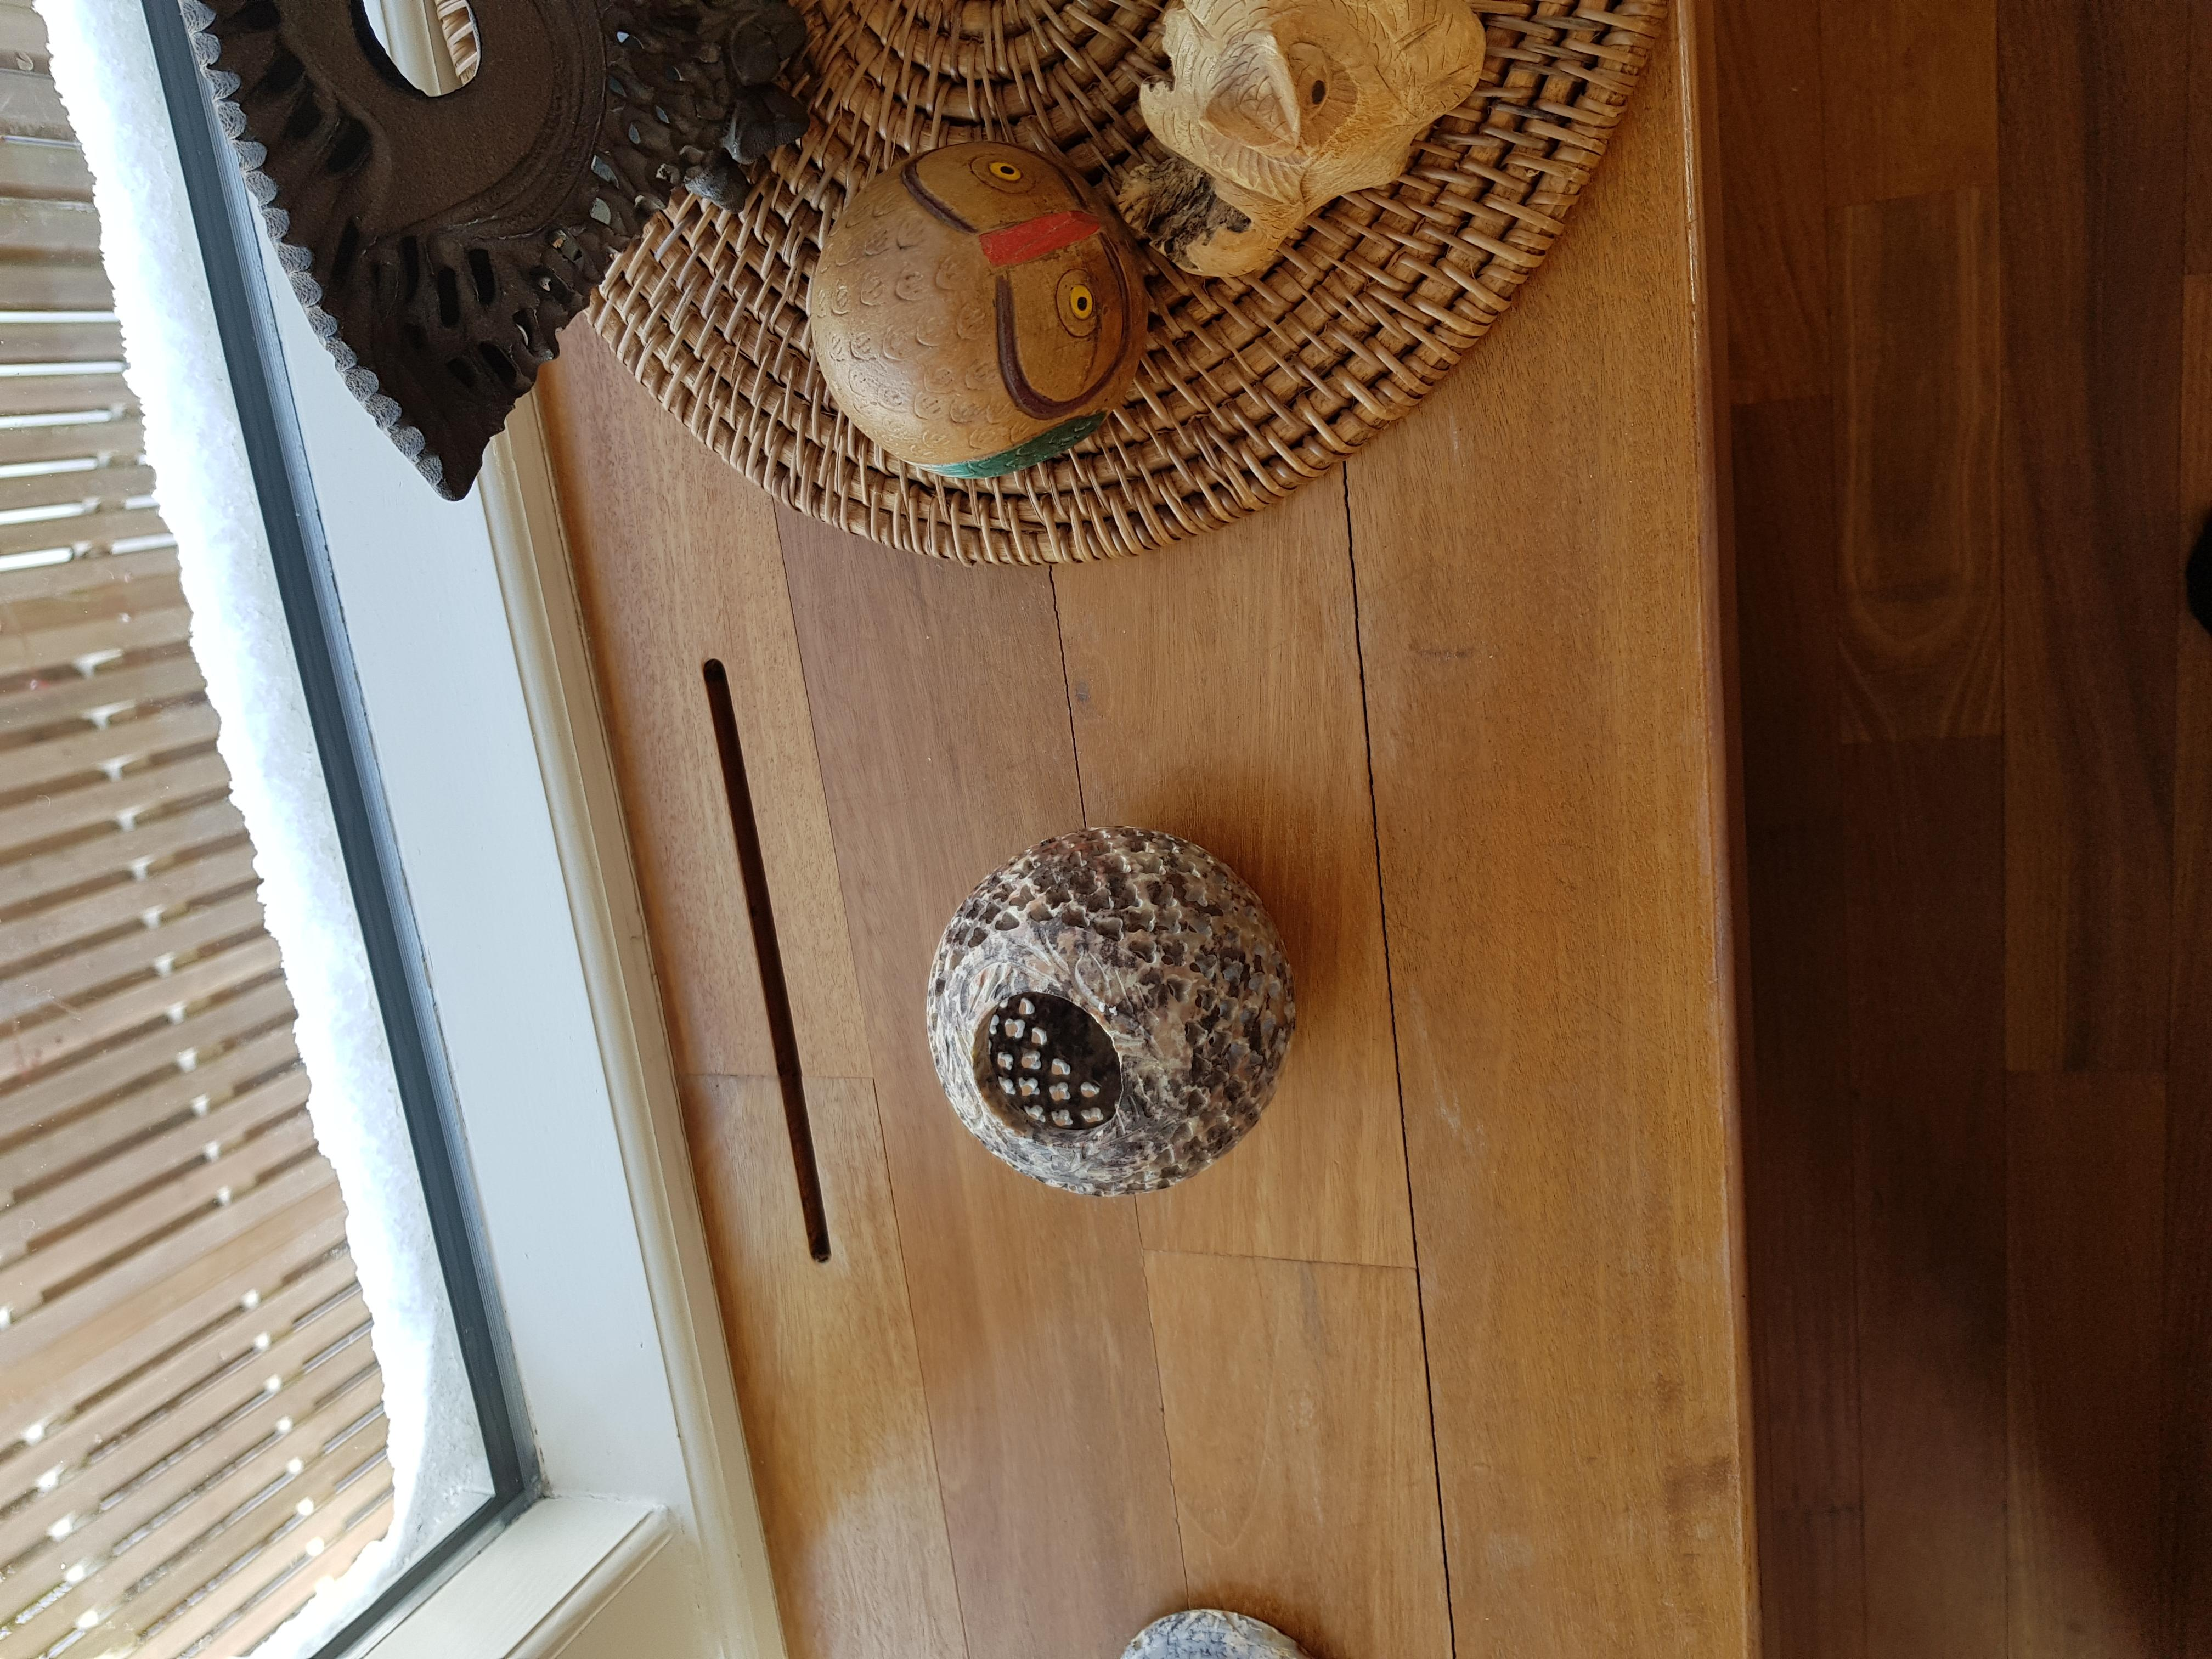sphere: (791, 119, 1160, 498), (913, 847, 1301, 1199)
